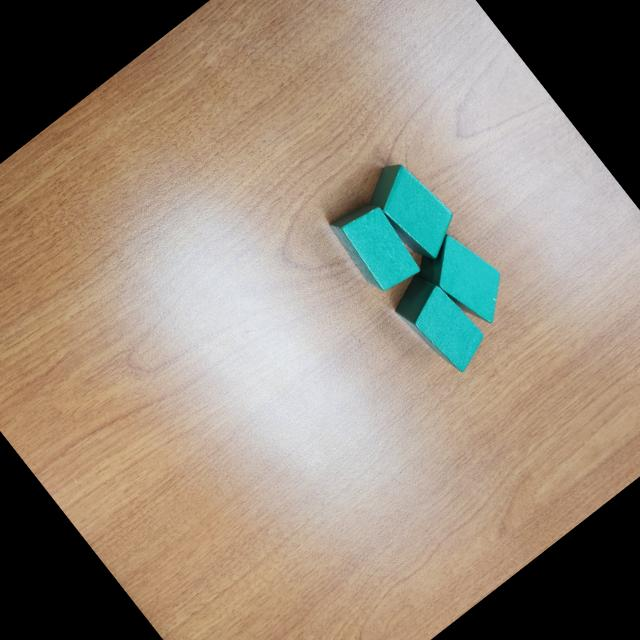green: (409, 222, 523, 342), (357, 152, 468, 270), (386, 264, 495, 382), (324, 190, 430, 302)
